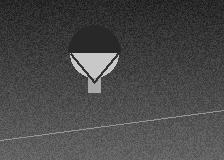helmet: (68, 25, 120, 82)
